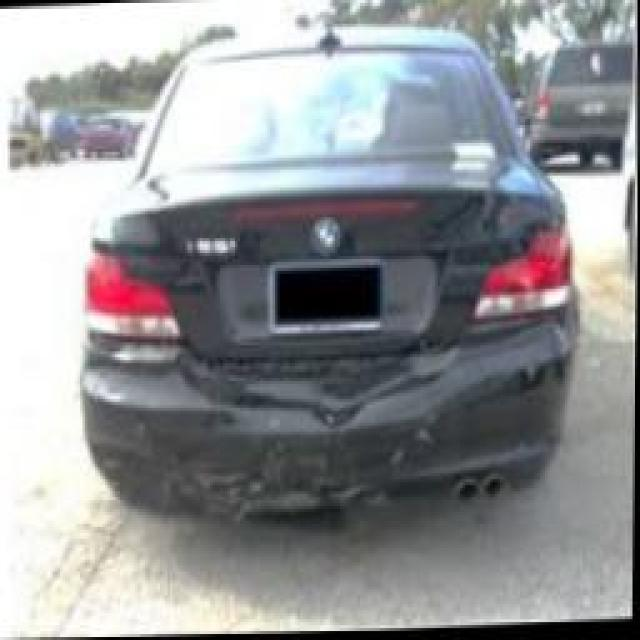Bumper: (79, 335, 554, 515)
